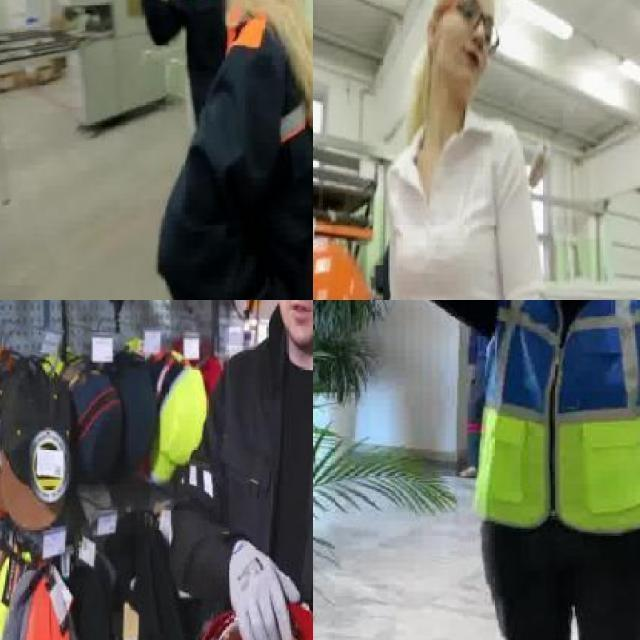apron: (228, 542, 302, 640)
